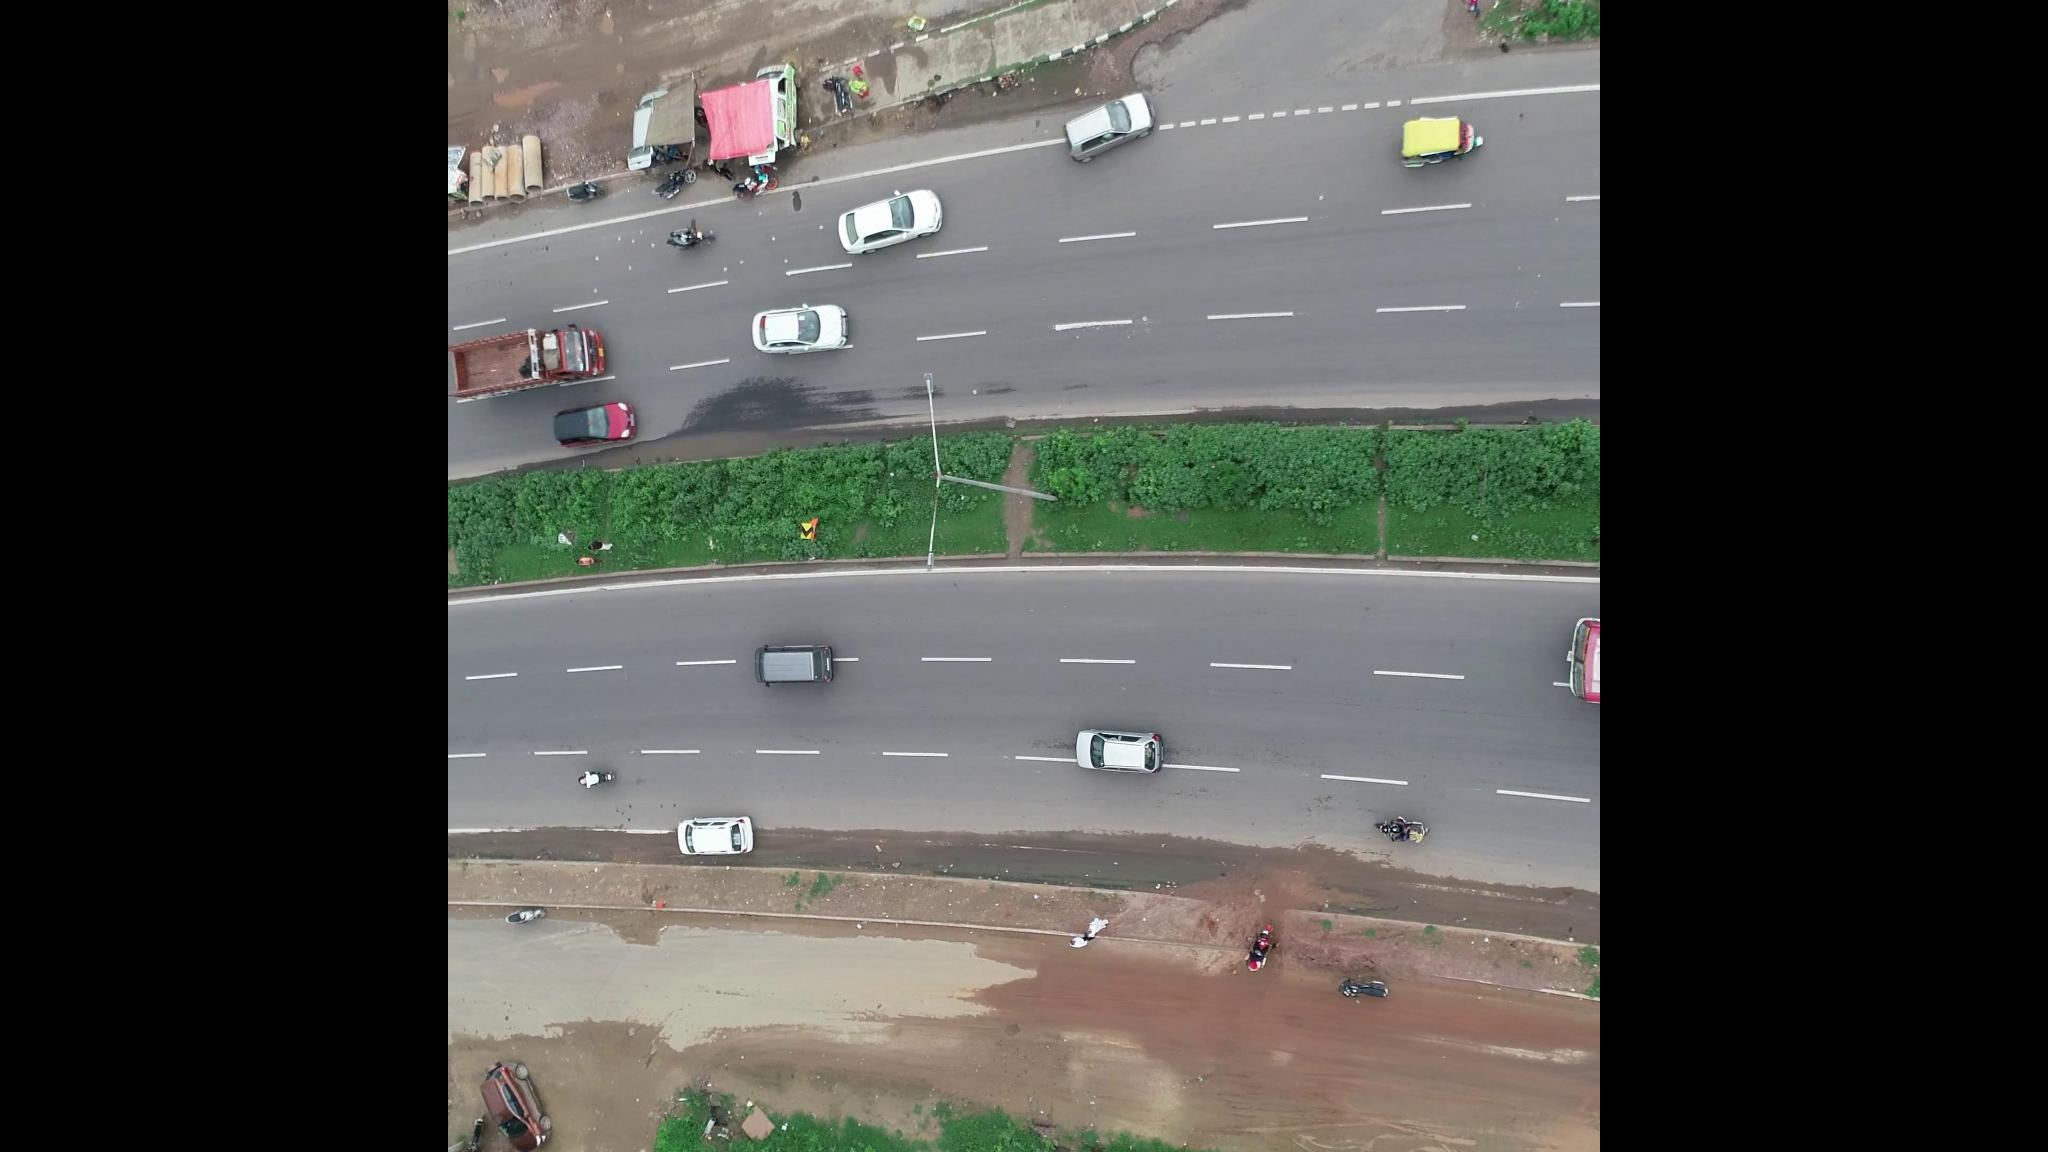Muddy_road: (1097, 965, 1506, 1152)
